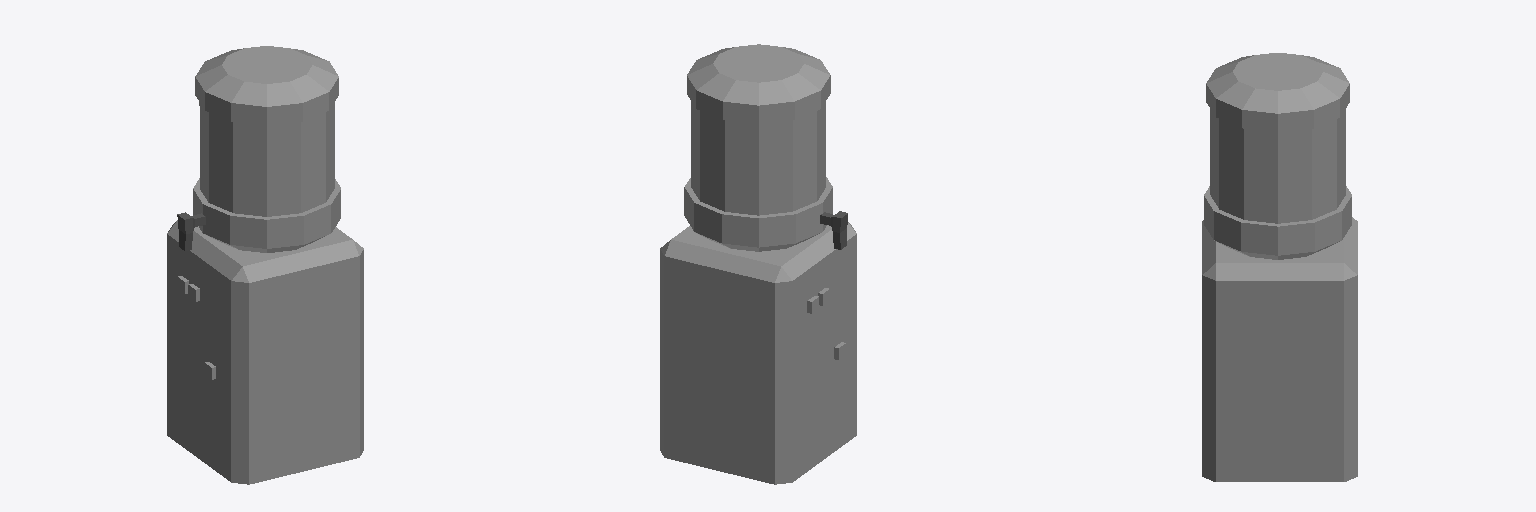
File: WaterCooler.obj
The picture shows the model from 3 angles: view 1: azimuth 30°, elevation 25°; view 2: azimuth 150°, elevation 25°; view 3: azimuth 270°, elevation 25°; orthographic projection.
Parts seen in each view (by area): view 1: Cube.154_Cube.226, Cylinder.013_Cylinder.011, Cube.155_Cube.227; view 2: Cube.154_Cube.226, Cylinder.013_Cylinder.011, Cube.155_Cube.227; view 3: Cube.154_Cube.226, Cylinder.013_Cylinder.011.
Boxes of the visible parts, x1=… form: Cube.154_Cube.226: x1=167, y1=220, x2=363, y2=484; Cylinder.013_Cylinder.011: x1=193, y1=46, x2=340, y2=252; Cube.155_Cube.227: x1=177, y1=212, x2=205, y2=250; Cube.154_Cube.226: x1=660, y1=222, x2=856, y2=484; Cylinder.013_Cylinder.011: x1=684, y1=44, x2=832, y2=251; Cube.155_Cube.227: x1=820, y1=211, x2=847, y2=249; Cube.154_Cube.226: x1=1202, y1=217, x2=1357, y2=481; Cylinder.013_Cylinder.011: x1=1204, y1=53, x2=1351, y2=259.
Bounding box in the file's own units: 1.39 × 3.3 × 1.23.